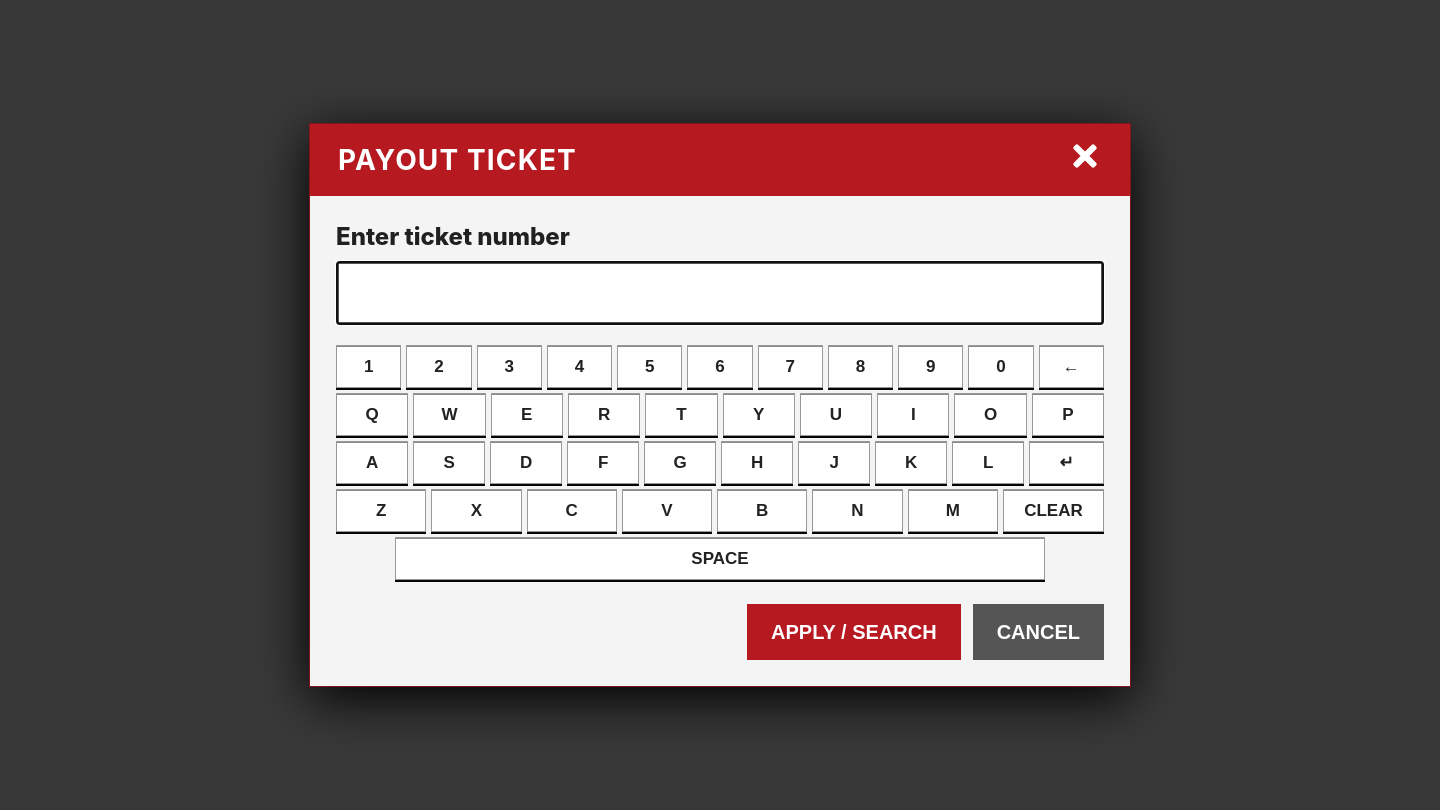
Test case: validates a blank ticket
What coordinates should you click on to do the following:
click the button "APPLY / SEARCH"
I would click on:
 (854, 632)
Its box is [747,604,961,660].
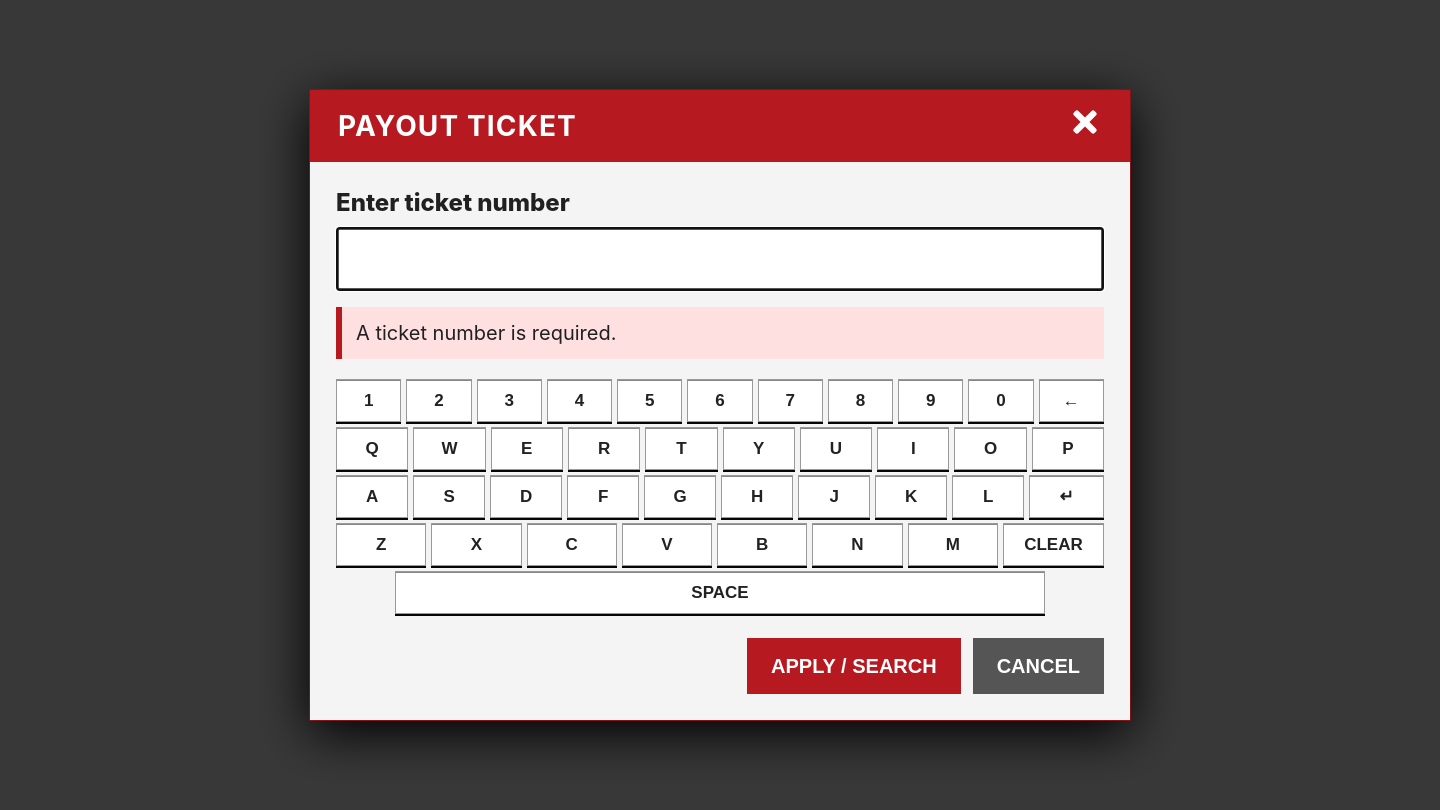
Expected: the message shows "required", [356,321,616,345]
